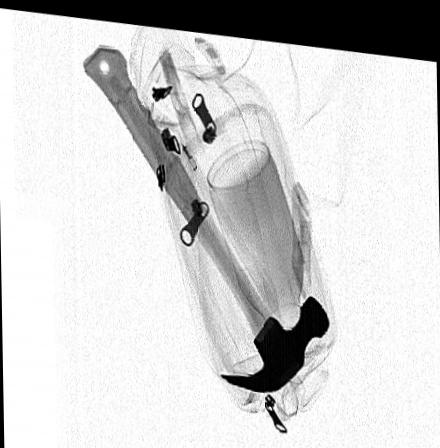Hammer: (80, 43, 331, 386)
